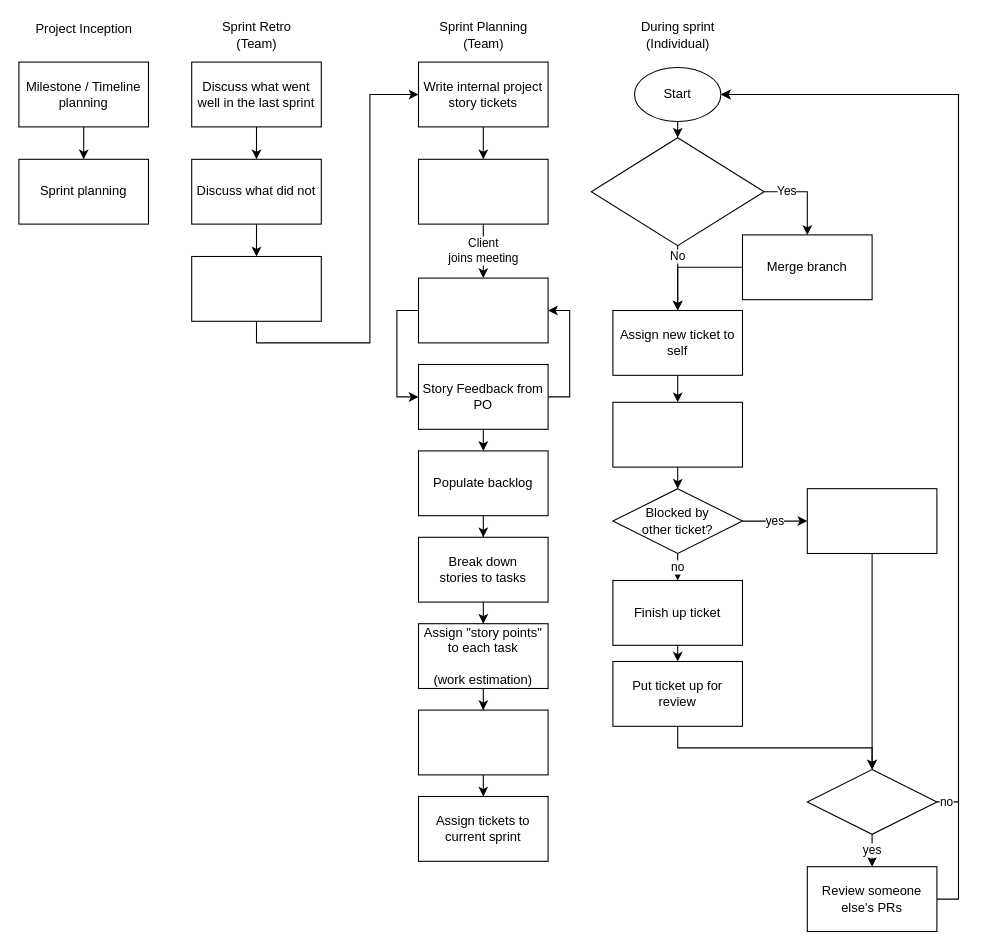
Some shapes in this 986 by 950 pixel diagram are drawn without their labels. The box of each missing label's shape, as (x1, y1, x2, y2) in pixels:
Any APPROVED PRs that are pending to merge?: (590, 137, 764, 246)
Are you bored?: (806, 768, 937, 834)
Decide on internal tasks that will improve project maintainability: (191, 255, 321, 321)
Estimate team's work commitment and availability: (417, 709, 548, 775)
Mark ticket as blocked & notify team: (806, 488, 937, 554)
Prepare epics/stories that are pending approval from client: (417, 158, 548, 224)
Story writing session w/ PO: (417, 277, 548, 343)
Work on assigned ticket: (612, 401, 742, 467)
